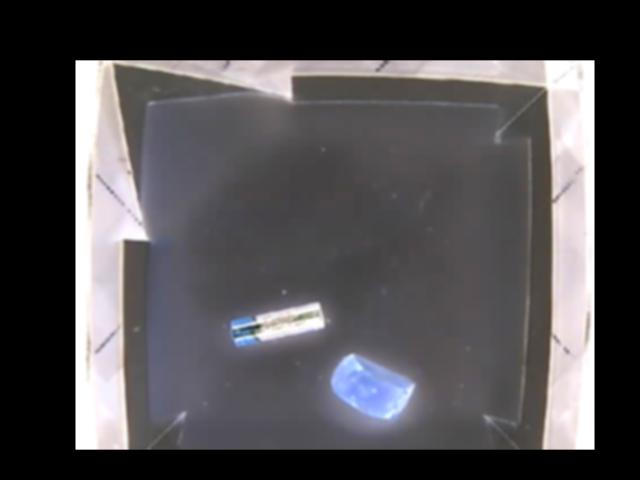Battery: (226, 302, 325, 347)
Potato: (329, 353, 415, 420)
